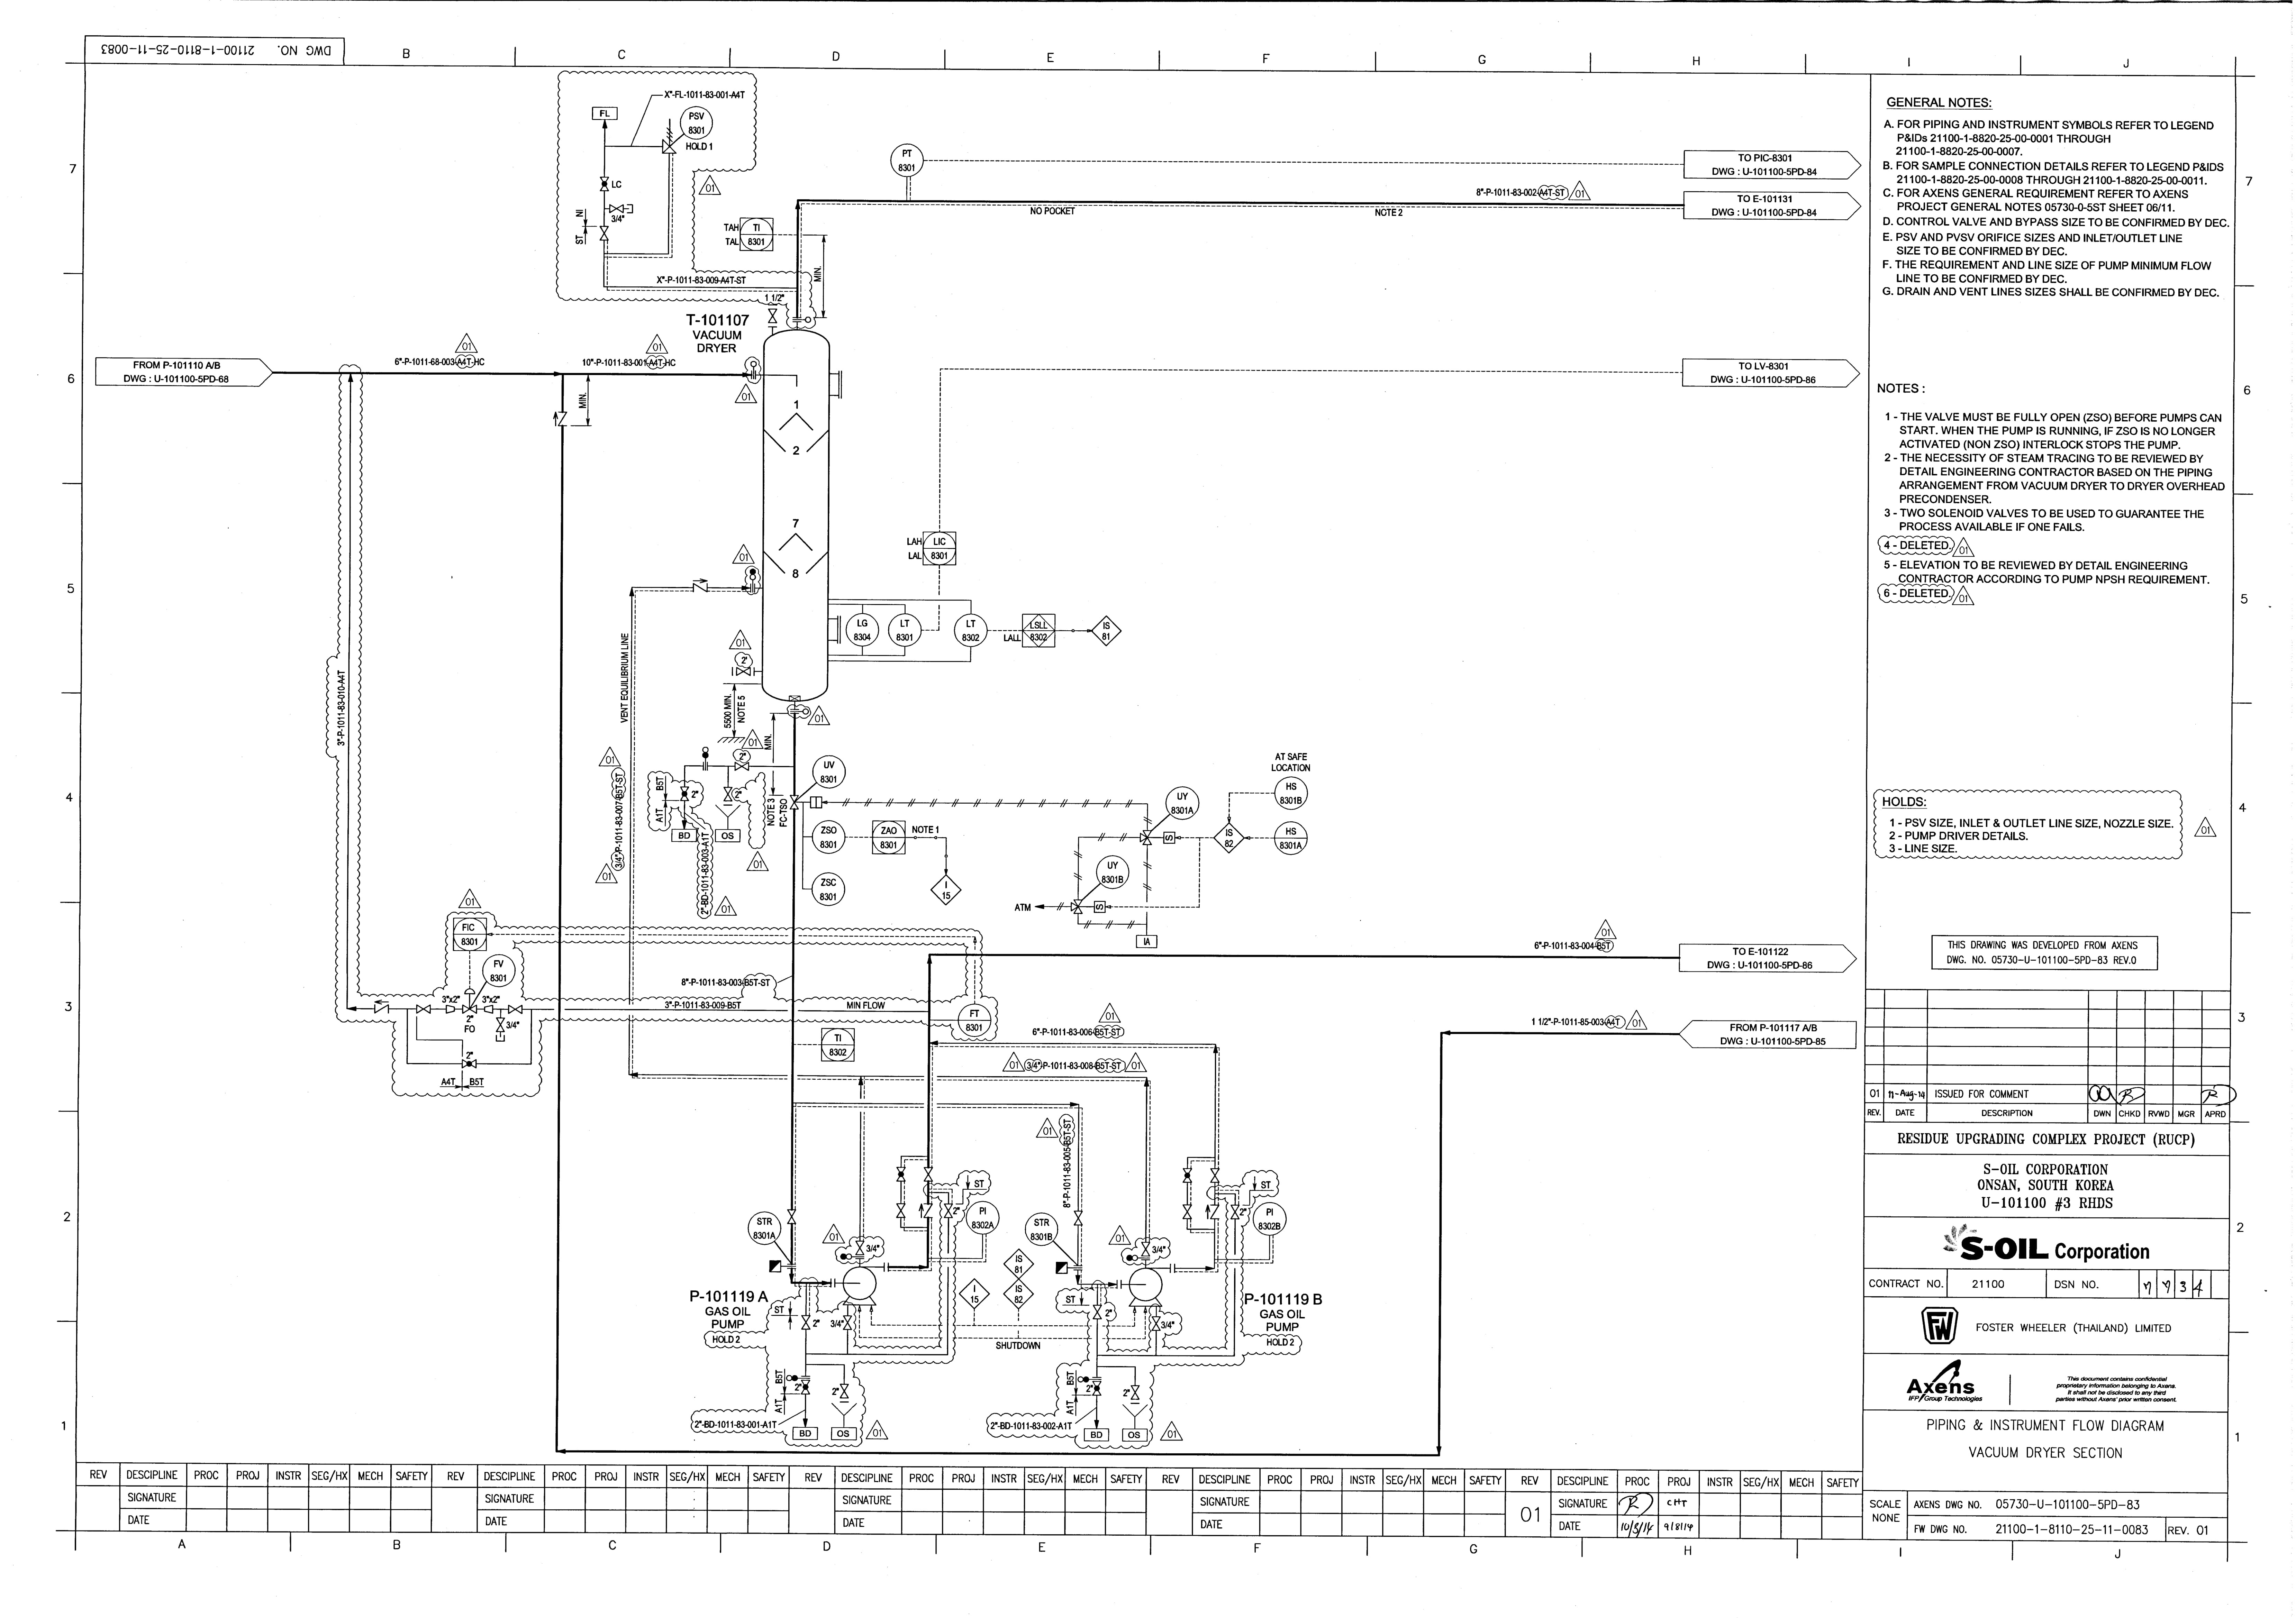butterfly0: (461, 1058, 478, 1068)
reduce0: (445, 1003, 455, 1014)
reduce180: (483, 1003, 494, 1016)
reduce90: (895, 1166, 907, 1182), (599, 175, 609, 193), (800, 1378, 811, 1396), (680, 784, 690, 802), (1182, 1166, 1193, 1184), (1091, 1380, 1102, 1397)
valvecontrol90: (461, 988, 478, 1016)
